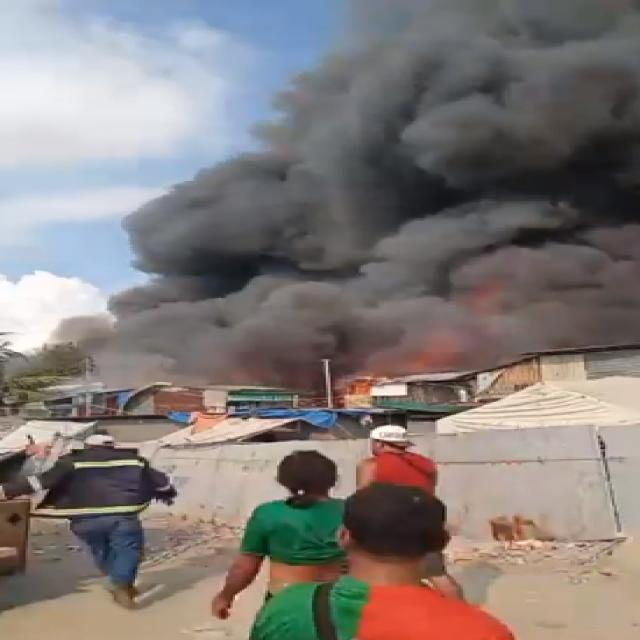Fire: (380, 290, 492, 382)
Smoke: (40, 0, 640, 388)
